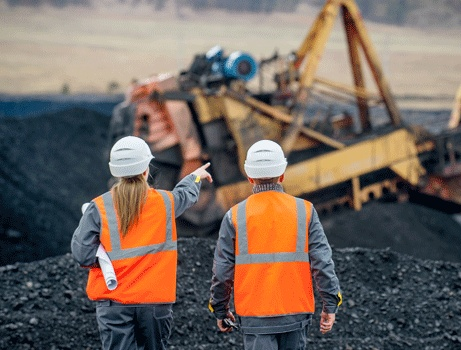helmet: (104, 137, 155, 181), (242, 146, 293, 179)
person with full safety: (216, 141, 335, 348), (76, 137, 188, 348)
safety vest: (230, 190, 318, 317), (89, 193, 178, 307)
